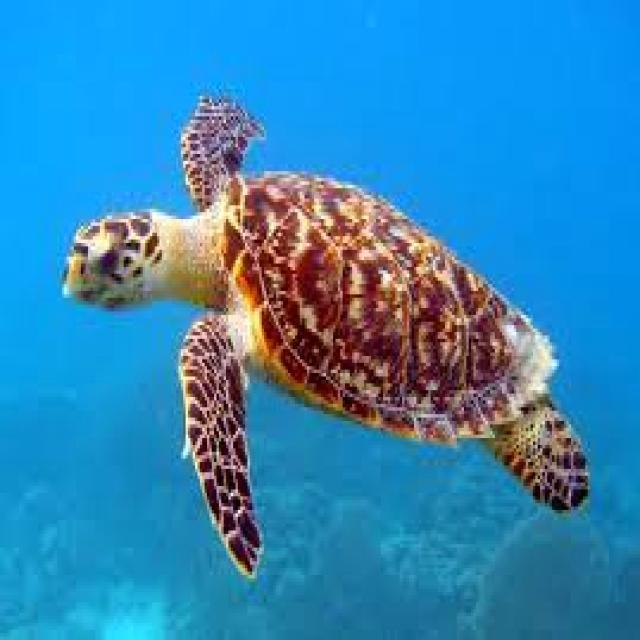turtle: (62, 96, 585, 572)
